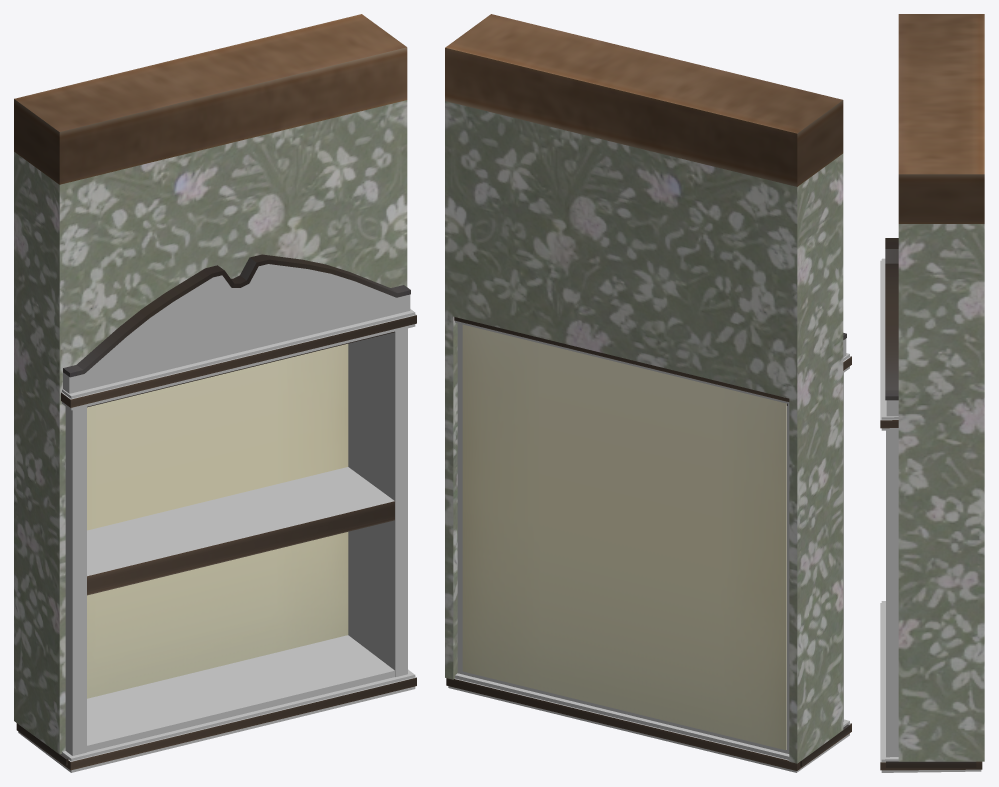
Rendered from kitcentop02ba.fbx.
3 views of the same model, side by side, from view 1: azimuth 30°, elevation 25°; view 2: azimuth 150°, elevation 25°; view 3: azimuth 270°, elevation 25° (orthographic). The views are drawn at different scales.
Visible parts, largest first — view 1: kitcentop02ba; view 2: kitcentop02ba; view 3: kitcentop02ba.
Boxes of the visible parts, left/top/right/bottom form: kitcentop02ba: left=14, top=14, right=416, bottom=772; kitcentop02ba: left=445, top=14, right=851, bottom=772; kitcentop02ba: left=880, top=14, right=984, bottom=772.
Size of the model in its own units: 0.927 by 1.62 by 0.2552.
